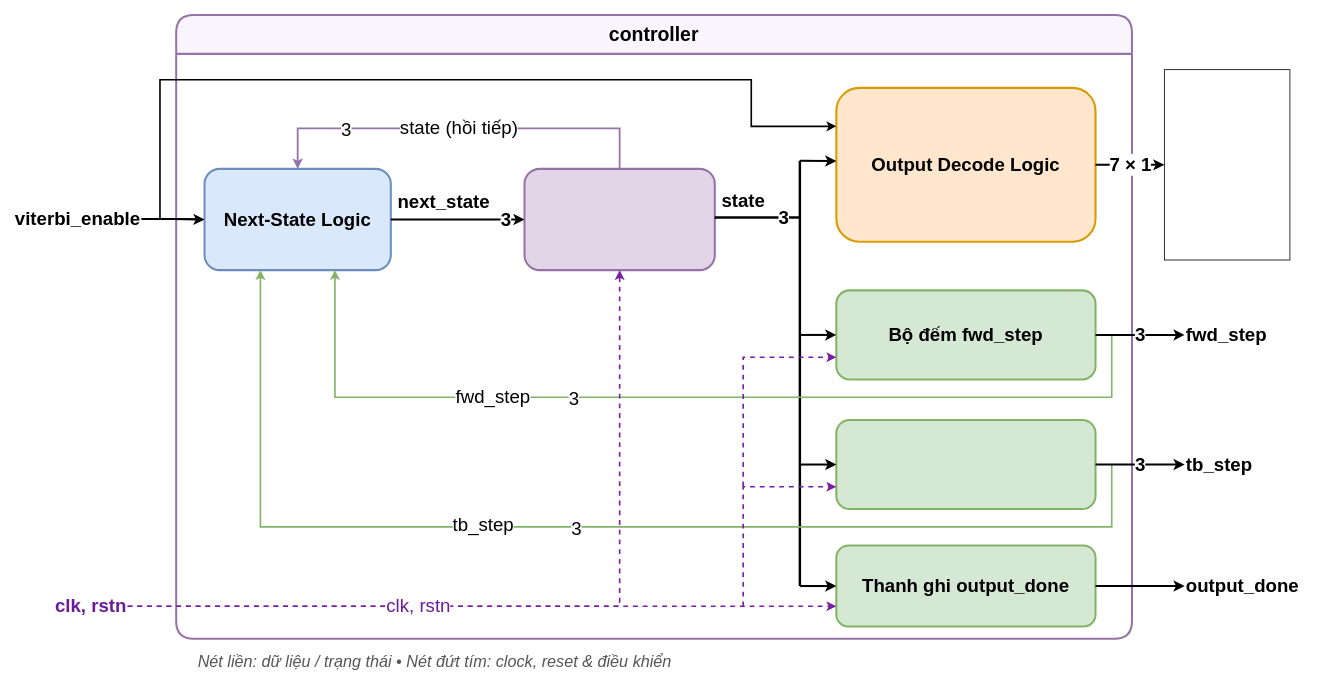
Image size: 1336x689. Some labels were removed from this diagram. Here are the shapes that lost their labels. From the top down, the box of each, then its label:
(1164, 69, 1290, 260): frame_load frame_init metric_en survivor_we select_en tb_en out_en
(523, 168, 715, 271): Thanh ghi state
(835, 419, 1096, 510): Bộ đếm tb_step
